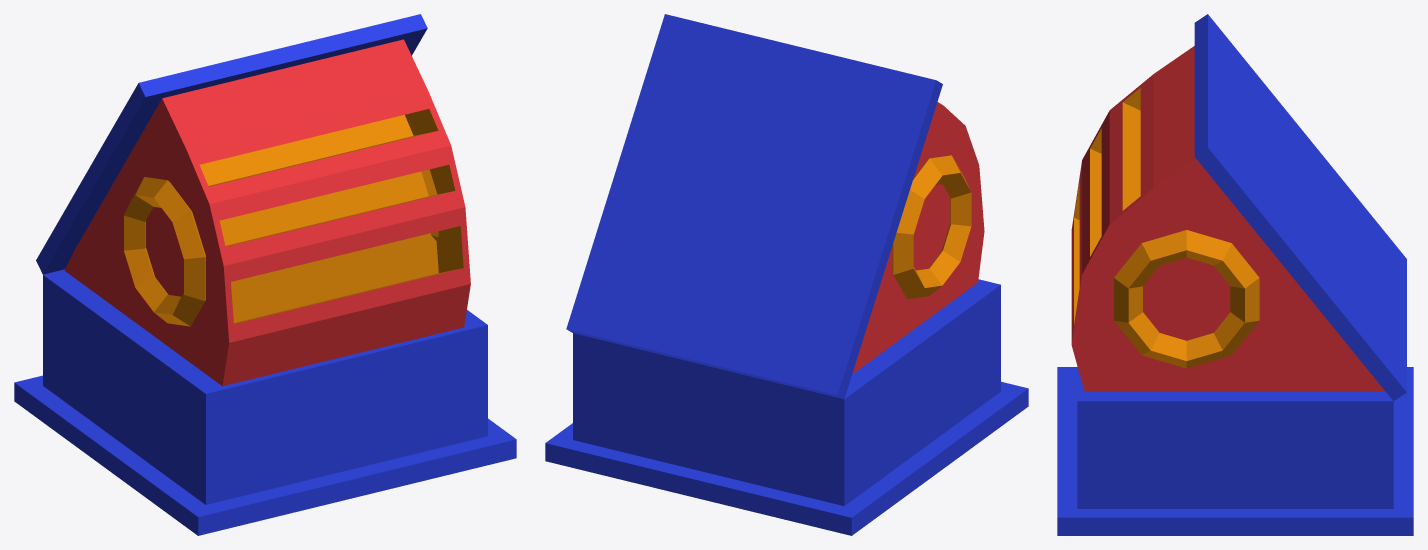
The model's file is engel2.fbx.
3 views of the same model, side by side, from view 1: azimuth 30°, elevation 25°; view 2: azimuth 150°, elevation 25°; view 3: azimuth 270°, elevation 25° (orthographic). The views are drawn at different scales.
Visible parts, largest first — view 1: Torus; view 2: Torus; view 3: Torus.
Part boxes in pixels (x1,y1,x2,y2): Torus: (14,14,516,535); Torus: (545,14,1028,535); Torus: (1057,14,1413,535).
Bounding box in the file's own units: 200 × 235 × 200.
